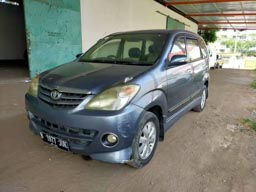plat: (41, 134, 68, 156)
